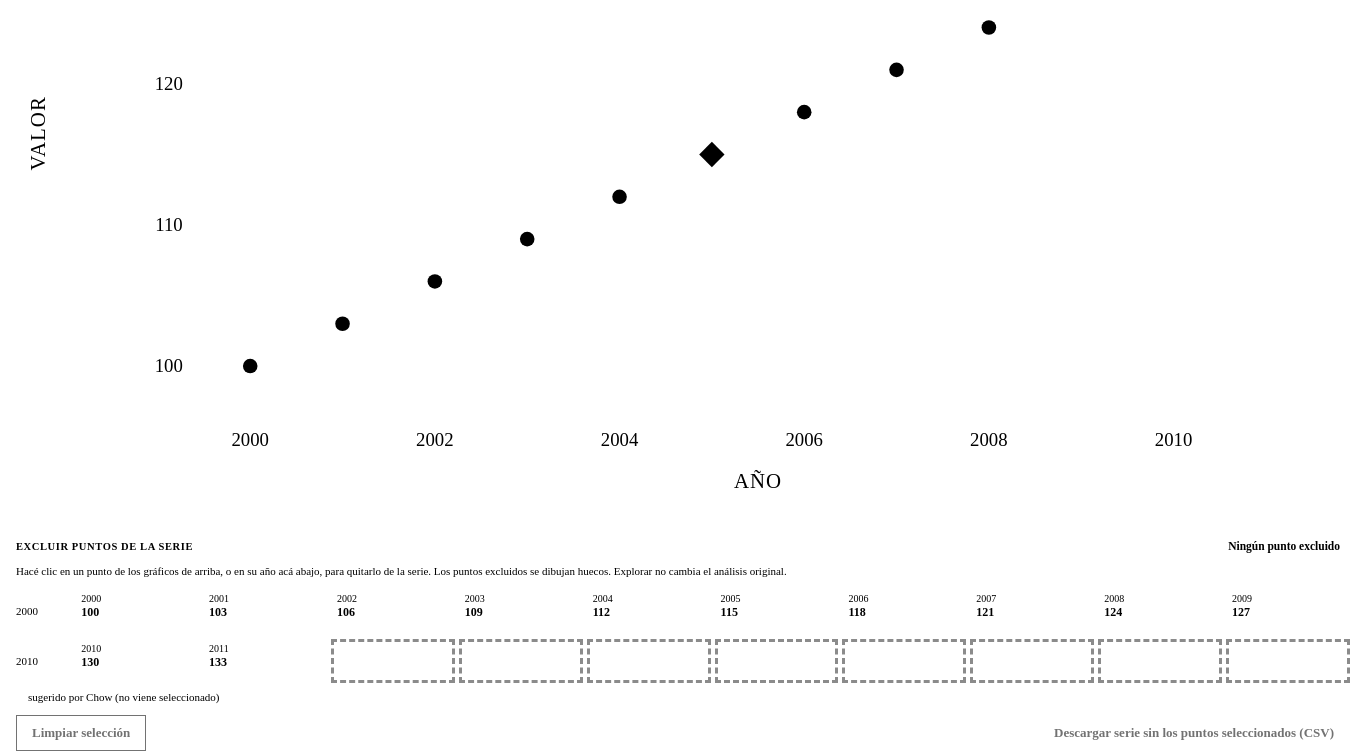
Test: Etapa1GraficosView — exclusión de puntos › un punto del medio: los vecinos quedarían como consecutivos
This screenshot has width=1366, height=754.
(page scrolled)
Click the button "2004 112". click: (649, 611)
box: x1=587 y1=589 x2=711 y2=633
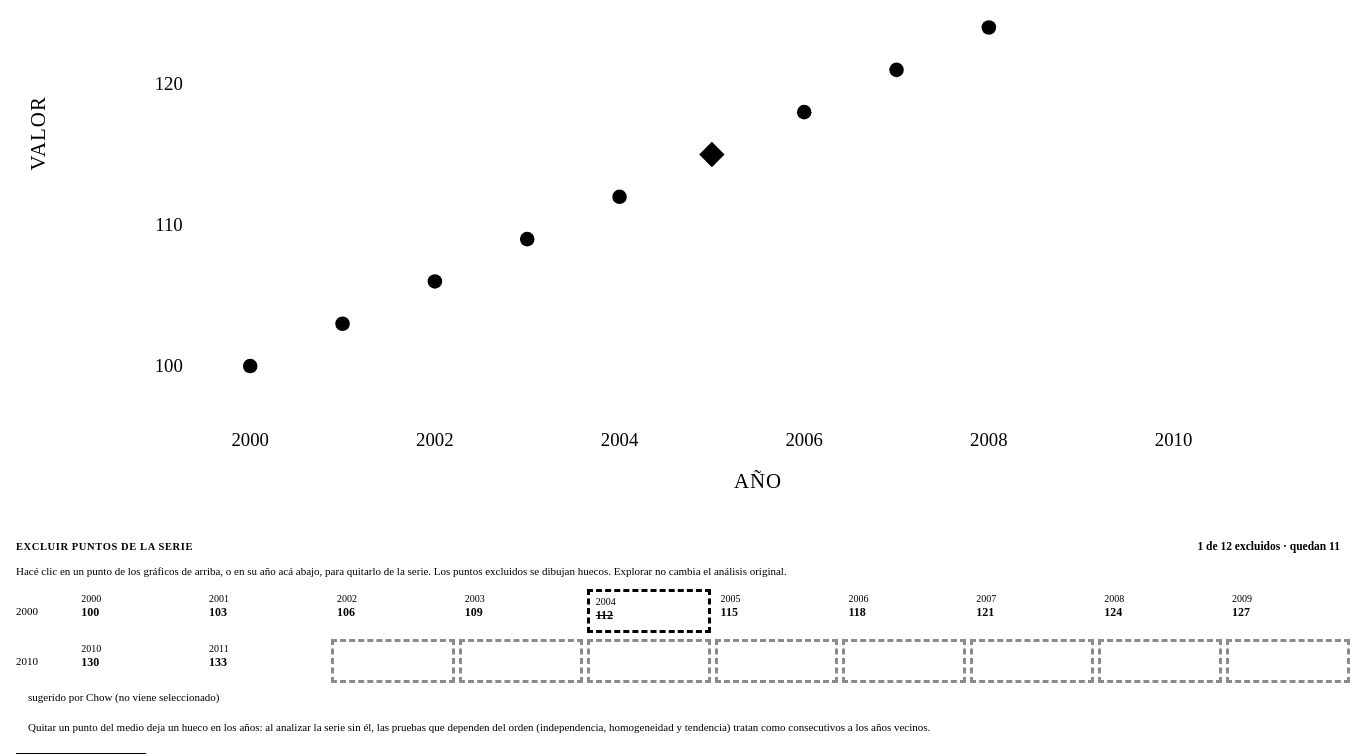
Now the text "Quitar un punto del medio" is shown, box x1=28 y1=721 x2=930 y2=733
